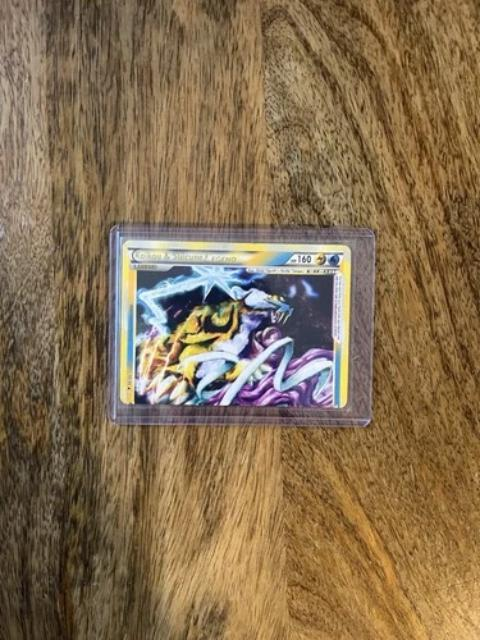Card: (119, 238, 356, 411)
Name: (131, 249, 242, 266)
